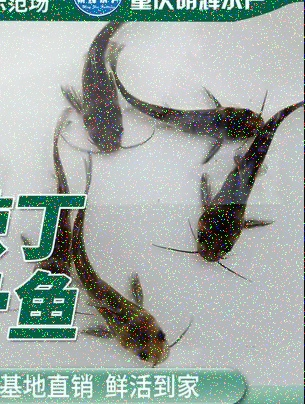fry: (80, 255, 183, 372), (69, 20, 141, 162), (192, 156, 269, 271), (21, 155, 78, 292), (139, 93, 271, 151)
